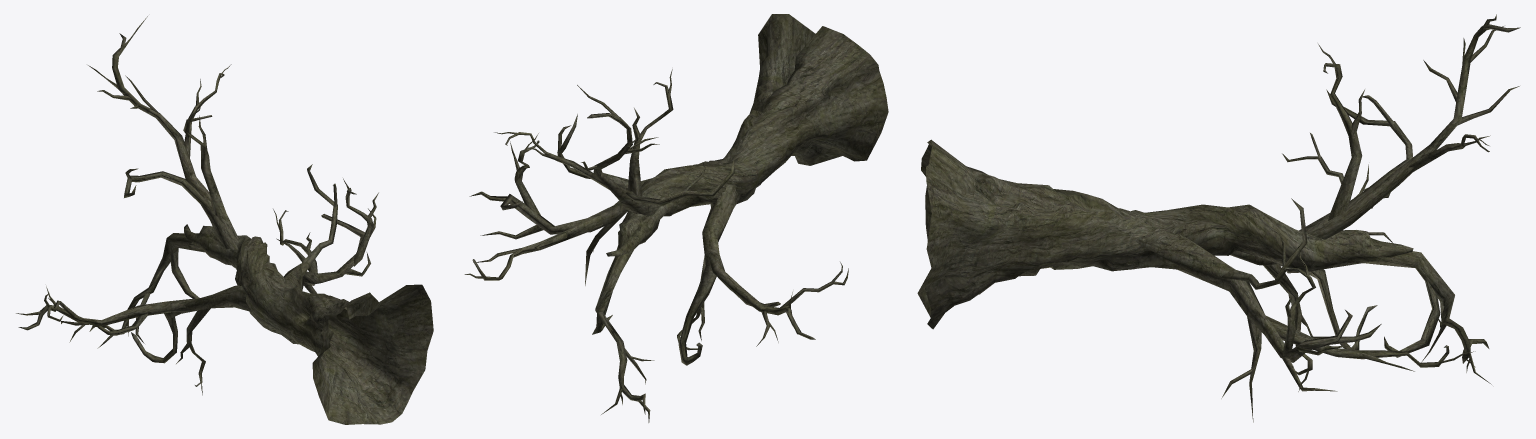
The model's file is TI_Old_Tree_06.fbx.
The picture shows the model from 3 angles, left to right: view 1: azimuth 30°, elevation 25°; view 2: azimuth 150°, elevation 25°; view 3: azimuth 270°, elevation 25°; orthographic projection. The views are drawn at different scales.
Visible parts, largest first — view 1: TI_Old_Tree_06; view 2: TI_Old_Tree_06; view 3: TI_Old_Tree_06.
Part boxes in pixels (bbox=[...]): TI_Old_Tree_06: bbox=[16, 16, 433, 424]; TI_Old_Tree_06: bbox=[464, 14, 888, 422]; TI_Old_Tree_06: bbox=[917, 14, 1520, 422].
Bounding box in the file's own units: 9.18 × 8.24 × 11.4.
